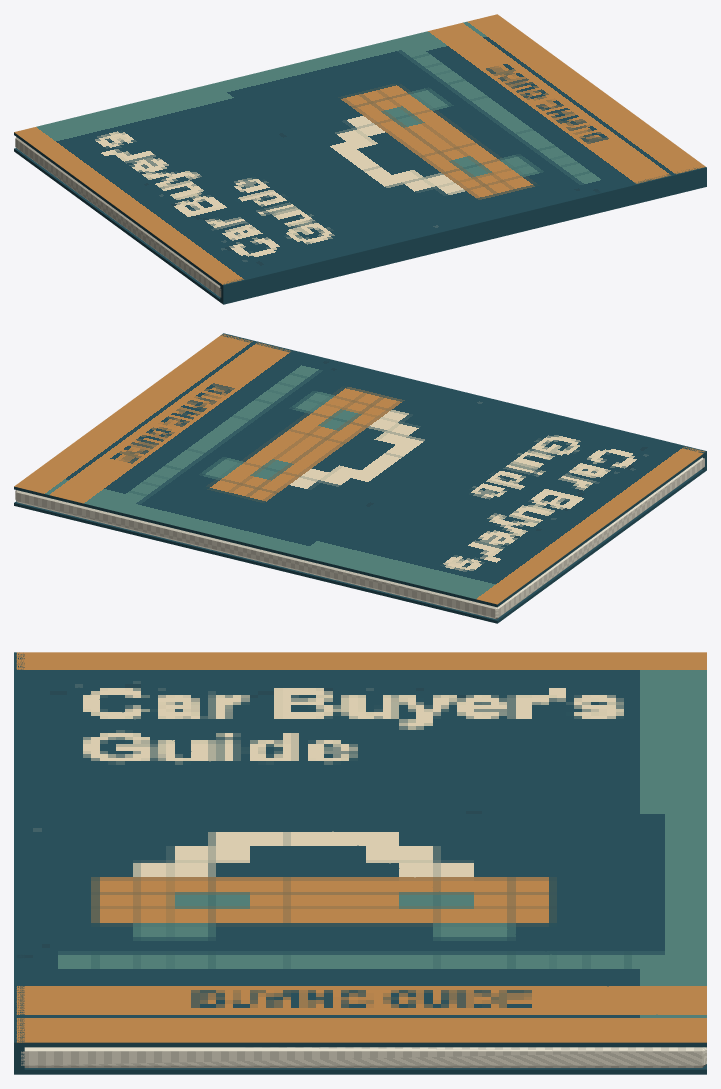
The model's file is mag_barter.glb.
The picture shows the model from 3 angles, top to bottom: view 1: azimuth 30°, elevation 25°; view 2: azimuth 150°, elevation 25°; view 3: azimuth 270°, elevation 25°; orthographic projection. The views are drawn at different scales.
Visible parts, largest first — view 1: block_front, block_spine, block_pages, block_back; view 2: block_front, block_pages, block_back, block_spine; view 3: block_front, block_pages, block_back, block_spine.
Part boxes in pixels (<box>): block_front: <box>14,14,705,287</box>; block_spine: <box>220,167,706,304</box>; block_pages: <box>15,137,221,297</box>; block_back: <box>14,148,222,303</box>; block_front: <box>14,334,706,607</box>; block_pages: <box>15,457,704,619</box>; block_back: <box>14,468,706,623</box>; block_spine: <box>220,333,706,470</box>; block_front: <box>16,652,706,1047</box>; block_pages: <box>21,1047,706,1067</box>; block_back: <box>16,1064,706,1074</box>; block_spine: <box>14,652,24,1074</box>.
Size of the model in its own units: 0.2154 by 0.00821 by 0.1617.
Materials: 1 (1 with a texture image).
